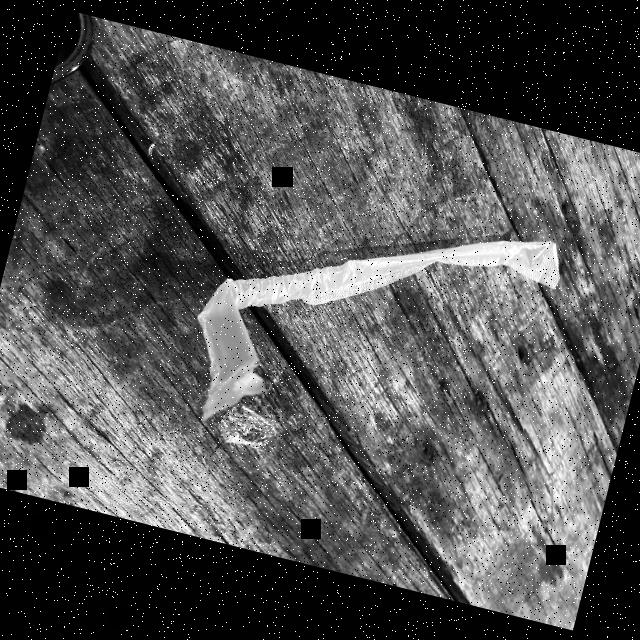scrap_plastic: (178, 162, 570, 476), (220, 402, 274, 453)
